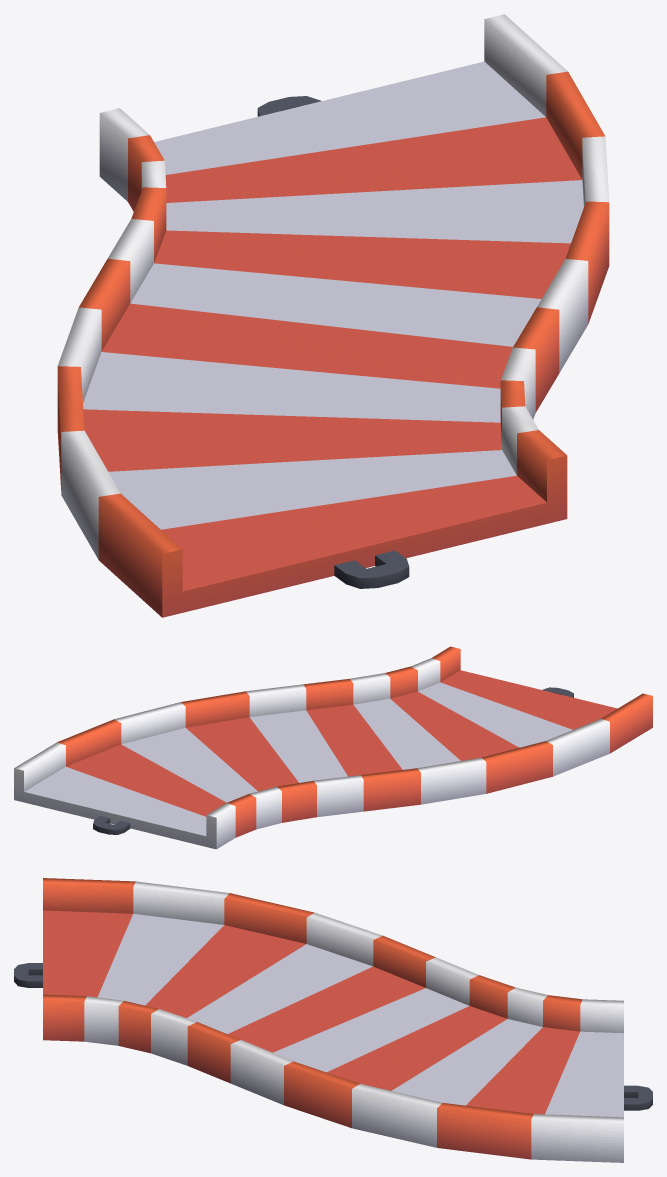
Rendered from track-striped-wide-curve.glb.
The picture shows the model from 3 angles, top to bottom: view 1: azimuth 30°, elevation 25°; view 2: azimuth 150°, elevation 25°; view 3: azimuth 270°, elevation 25°; orthographic projection. The views are drawn at different scales.
Parts seen in each view (by area): view 1: track-striped-wide-curve; view 2: track-striped-wide-curve; view 3: track-striped-wide-curve.
Boxes of the visible parts, box(x1,y1,x2,y2) form: track-striped-wide-curve: box(57, 14, 609, 617); track-striped-wide-curve: box(14, 646, 652, 849); track-striped-wide-curve: box(14, 878, 652, 1162).
Bounding box in the file's own units: 12 × 0.9 × 13.2.
Materials: 1 (1 with a texture image).
